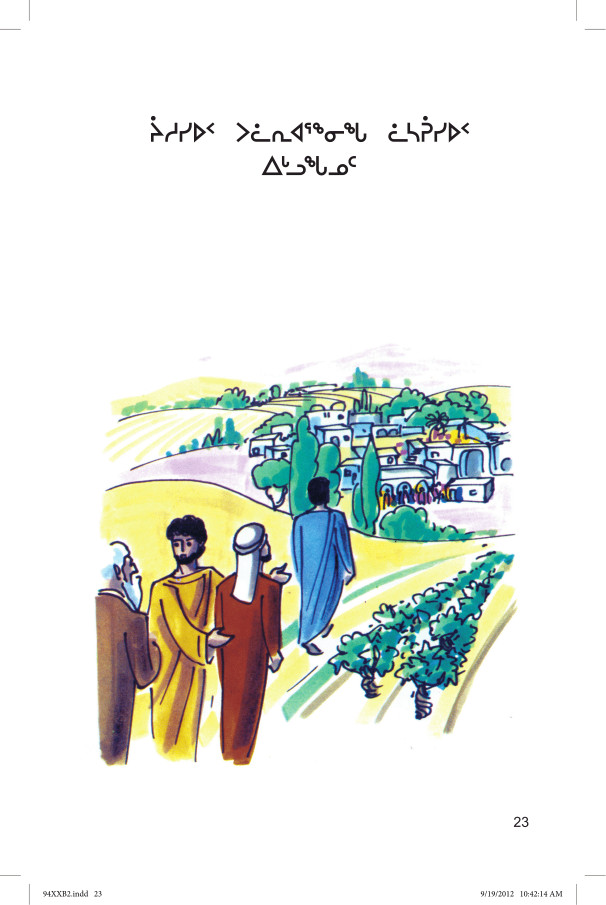inuktitut: (141, 108, 473, 149), (252, 149, 364, 181)
